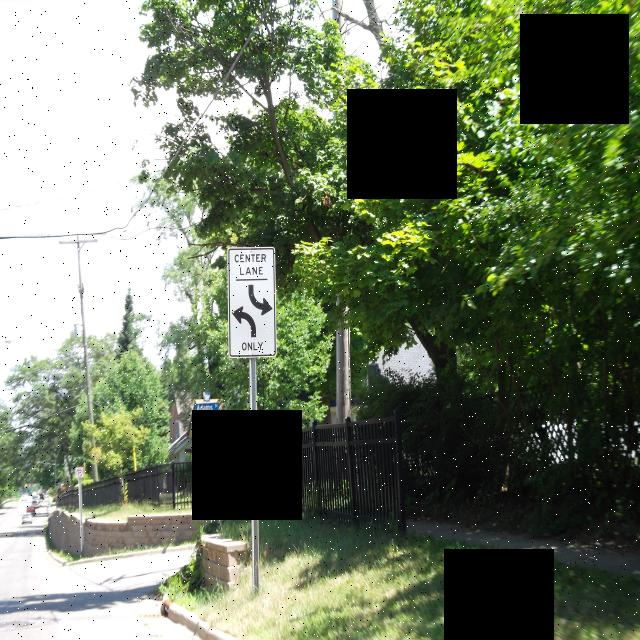regulatory: (227, 247, 277, 359), (74, 467, 84, 479)
stop: (203, 412, 213, 445)
